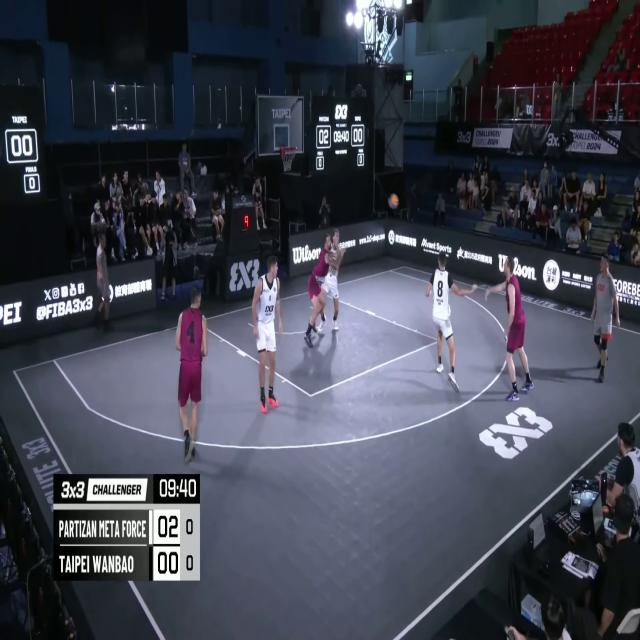ball: (386, 191, 399, 210)
hoop: (280, 142, 298, 175)
player: (485, 254, 535, 402), (427, 252, 472, 385), (176, 286, 207, 464), (249, 256, 282, 418), (301, 232, 340, 351), (317, 231, 343, 335)
